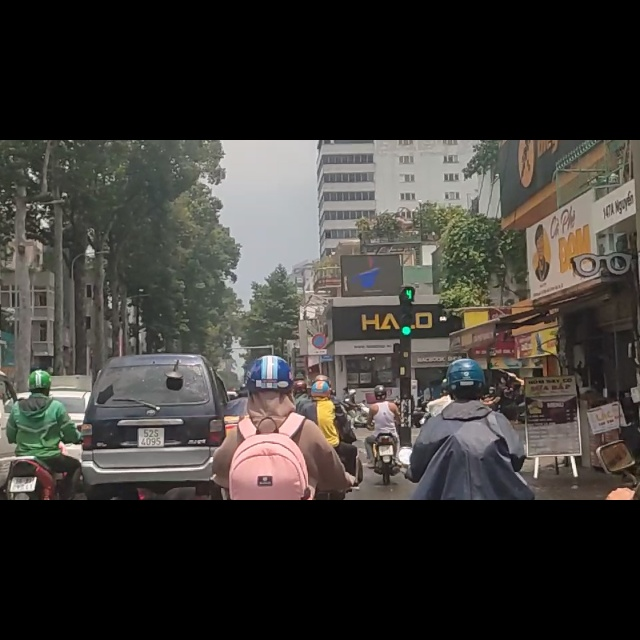bien_cam: (312, 345, 327, 372)
